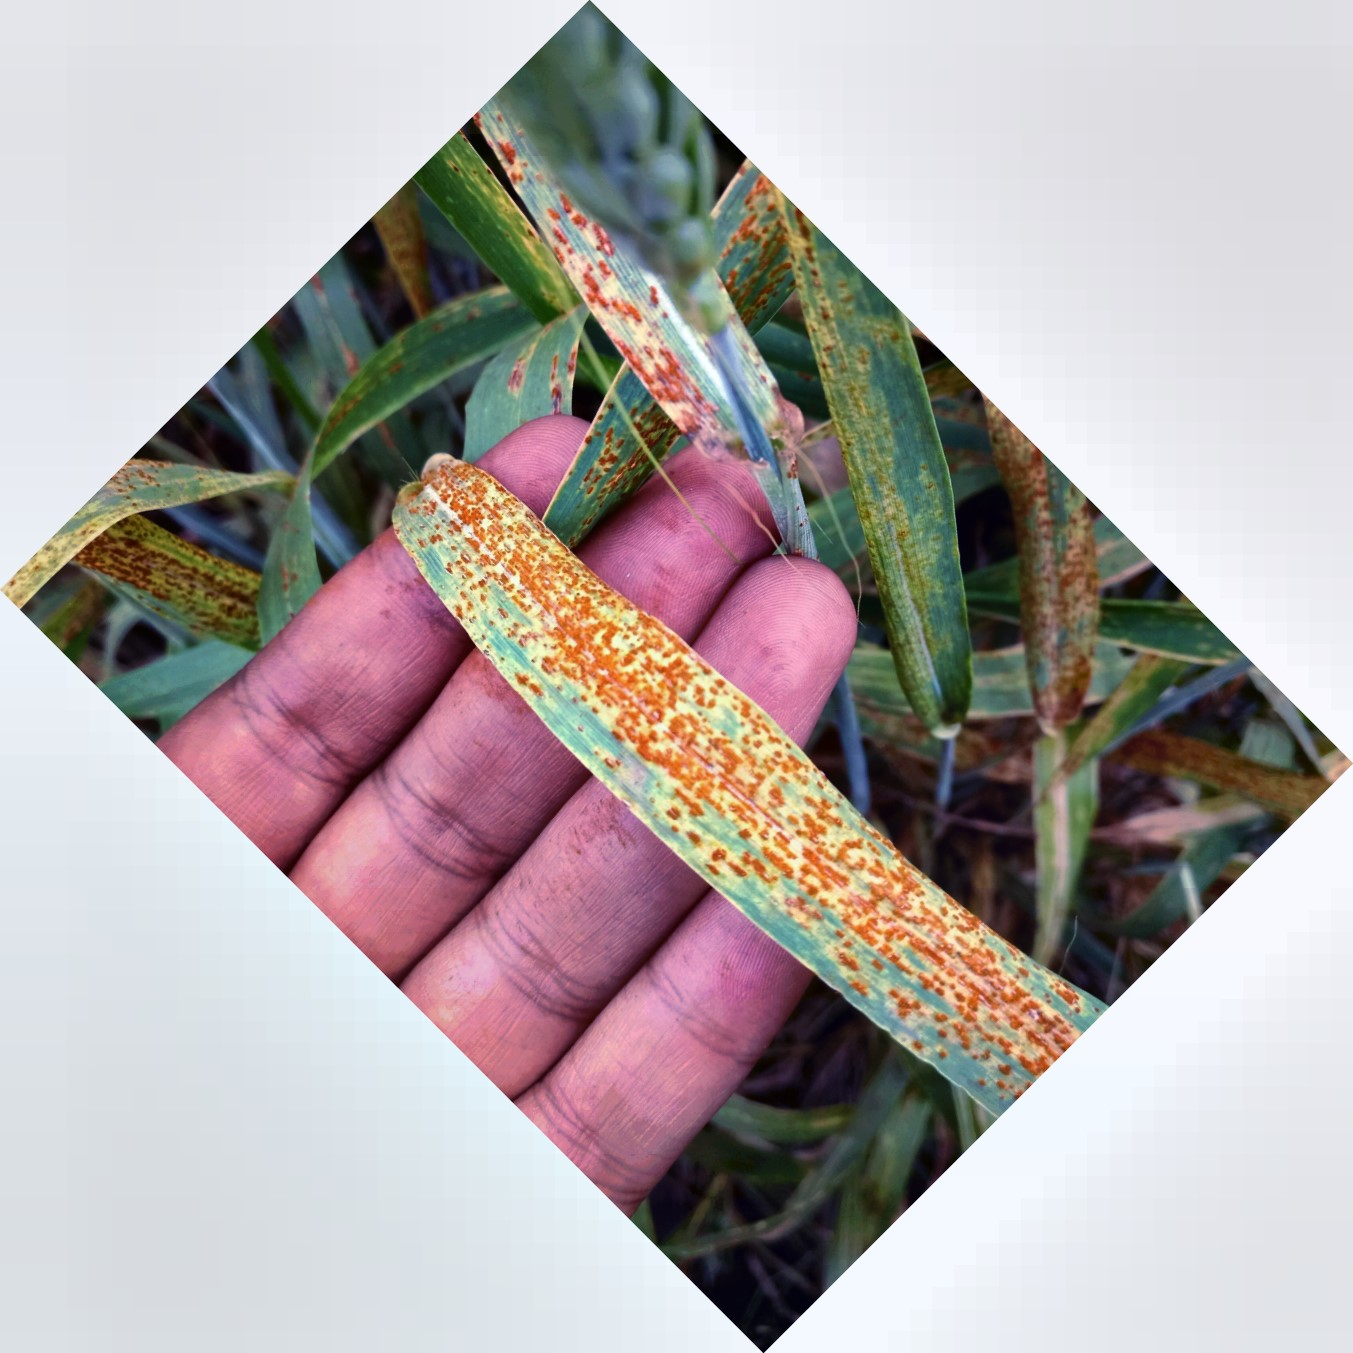Leaf Rust: (414, 476, 1040, 1095)
